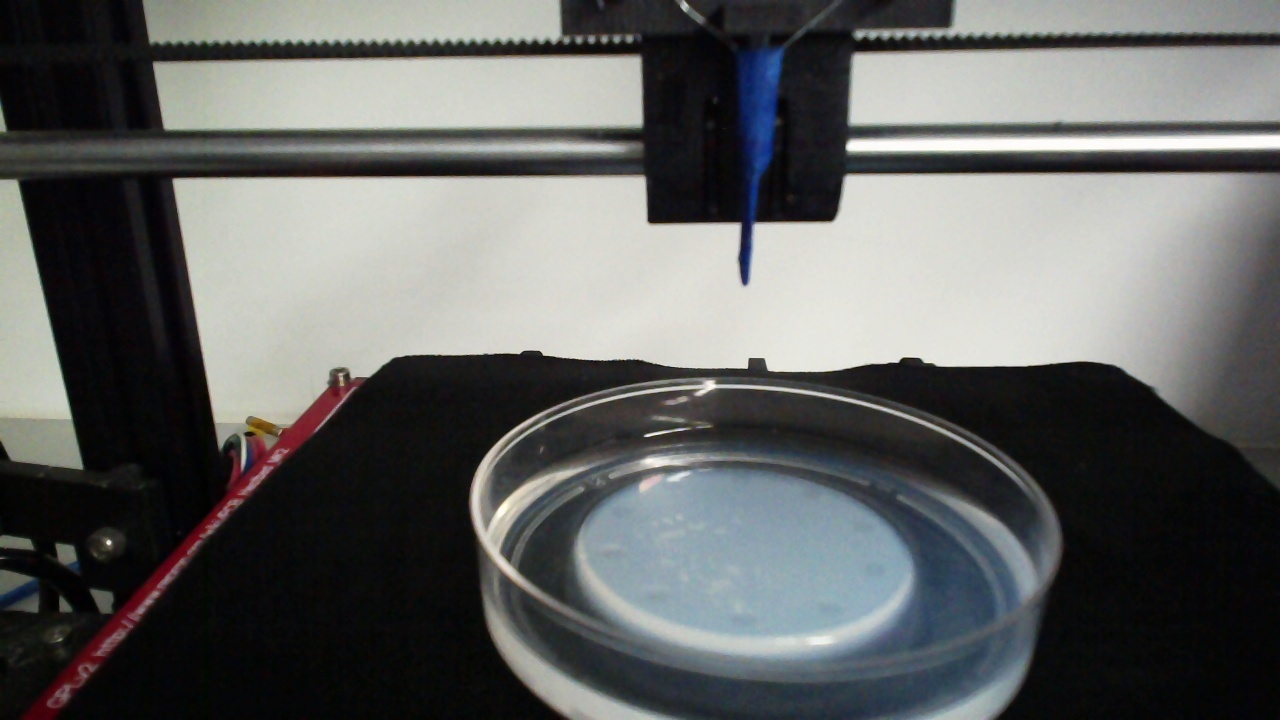groove: (726, 604, 763, 630), (814, 598, 849, 620), (596, 542, 630, 563), (794, 483, 826, 505), (726, 470, 756, 493), (860, 559, 889, 582), (607, 501, 638, 522), (850, 516, 880, 537), (642, 584, 672, 605)
needle: (739, 49, 781, 284)
